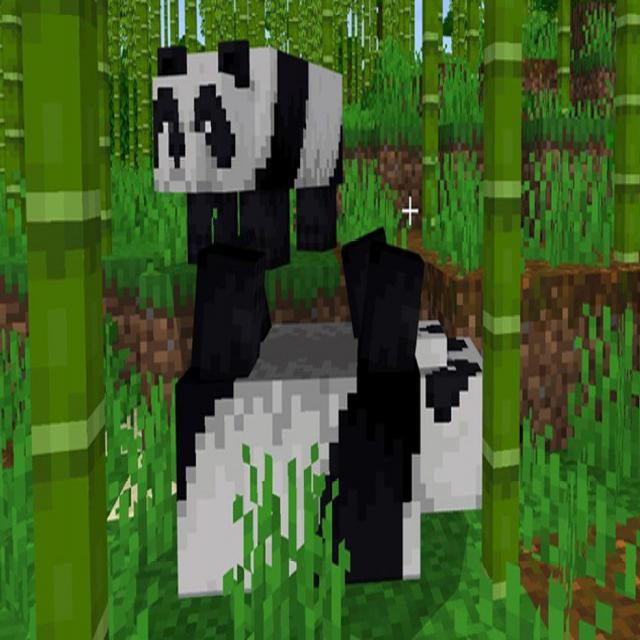Panda: (174, 221, 485, 603), (149, 38, 345, 268)
